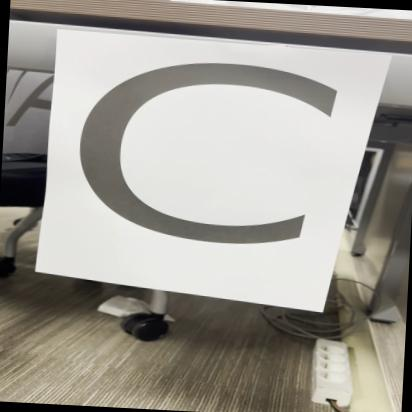seat: (63, 32, 358, 311)
